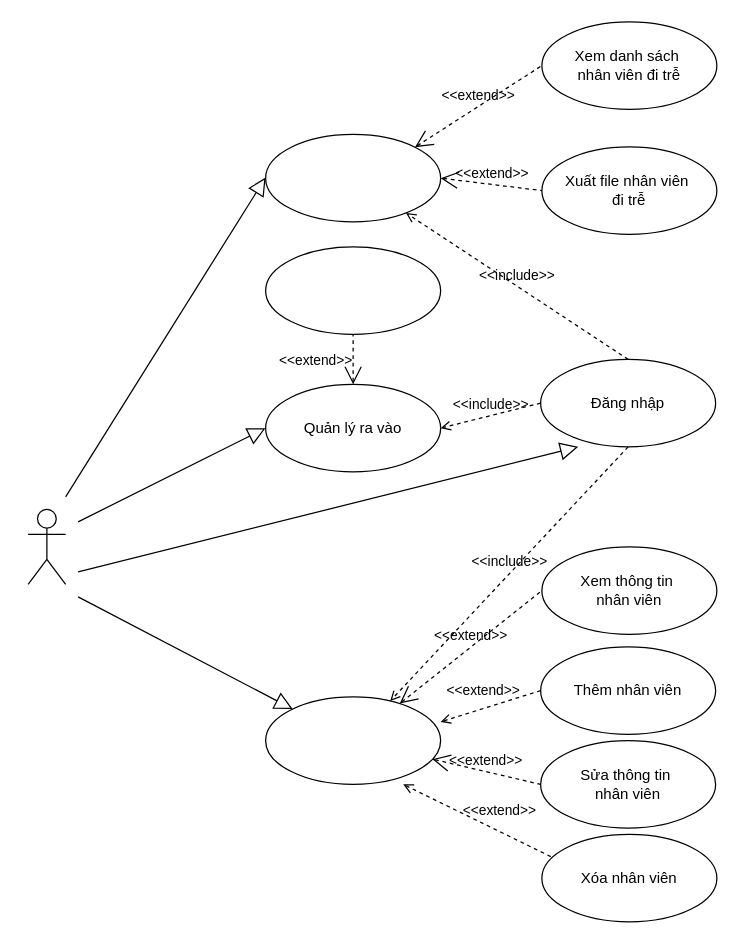
This 739x944 diagram has some shape labels left out. The shapes that lost their labels are listed below. From the top down, each one's centre as x and y in pixels, then its label:
At (x=352, y=177): "Quản lý nhân viên đi trễ".
At (x=352, y=290): "Xem lịch sử ra vào của nhân viên".
At (x=46, y=546): "Quản lý".
At (x=352, y=740): "Quản lý thông tin nhân viên".
